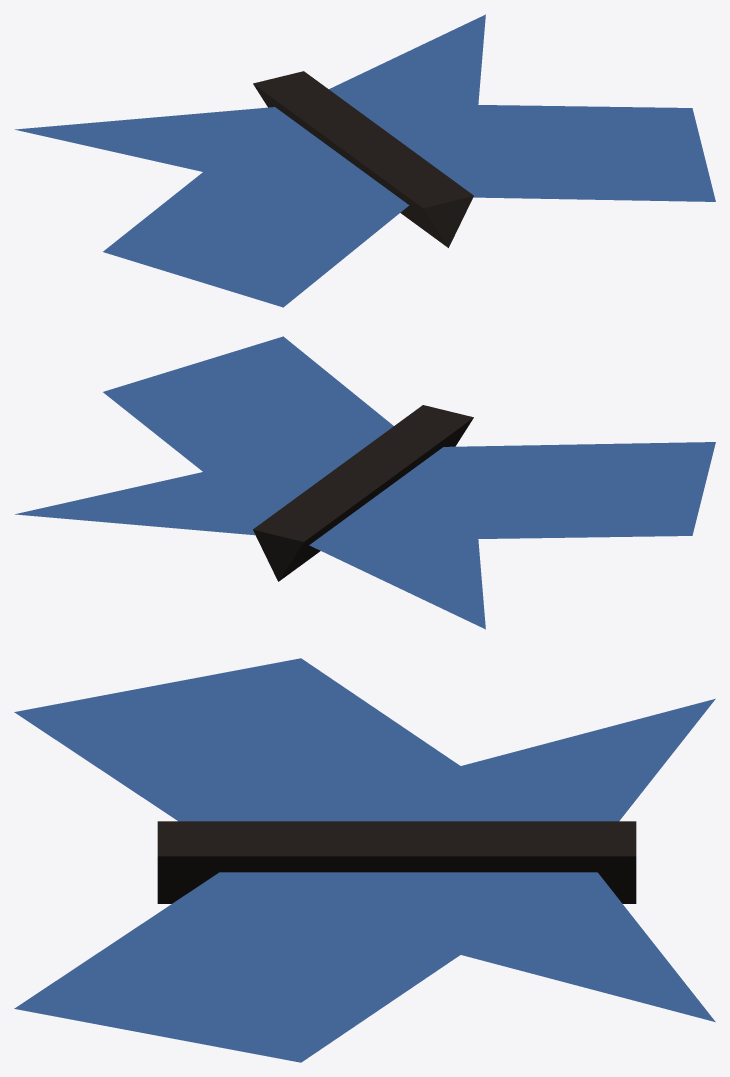
Rendered from e8b_sommerfugl.glb.
The picture shows the model from 3 angles, top to bottom: view 1: azimuth 30°, elevation 25°; view 2: azimuth 150°, elevation 25°; view 3: azimuth 270°, elevation 25°; orthographic projection. The views are drawn at different scales.
Visible parts, largest first — view 1: vinge_H, vinge_V, E8b_sommerfugl; view 2: vinge_H, vinge_V, E8b_sommerfugl; view 3: vinge_V, vinge_H, E8b_sommerfugl.
Boxes of the visible parts, x1,y1,x2,y2 form: vinge_H: (15,107,409,307); vinge_V: (329,14,715,201); E8b_sommerfugl: (253,71,473,247); vinge_H: (309,442,715,629); vinge_V: (15,336,393,535); E8b_sommerfugl: (253,405,473,581); vinge_V: (14,872,715,1062); vinge_H: (14,658,715,821); E8b_sommerfugl: (157,821,636,903).
Size of the model in its own units: 0.06 by 0.0045 by 0.044.
